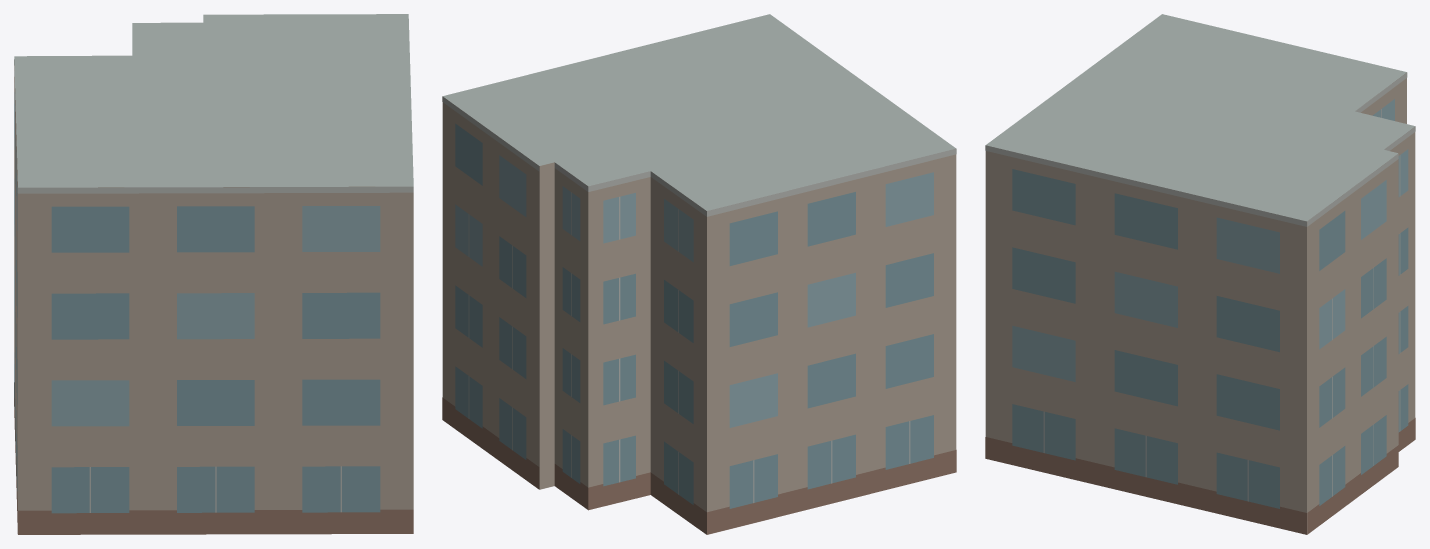
File: survey-upis-32706626.glb
3 renders of one model, left to right at view 1: azimuth 30°, elevation 25°; view 2: azimuth 150°, elevation 25°; view 3: azimuth 270°, elevation 25°, orthographic. The views are drawn at different scales.
Parts seen in each view (by area): view 1: survey-upis-32706626.tmp; view 2: survey-upis-32706626.tmp; view 3: survey-upis-32706626.tmp.
Part boxes in pixels (<box>): survey-upis-32706626.tmp: <box>14,14,413,534</box>; survey-upis-32706626.tmp: <box>442,14,956,534</box>; survey-upis-32706626.tmp: <box>985,14,1415,534</box>.
Size of the model in its own units: 19.6 by 13.8 by 17.17.
